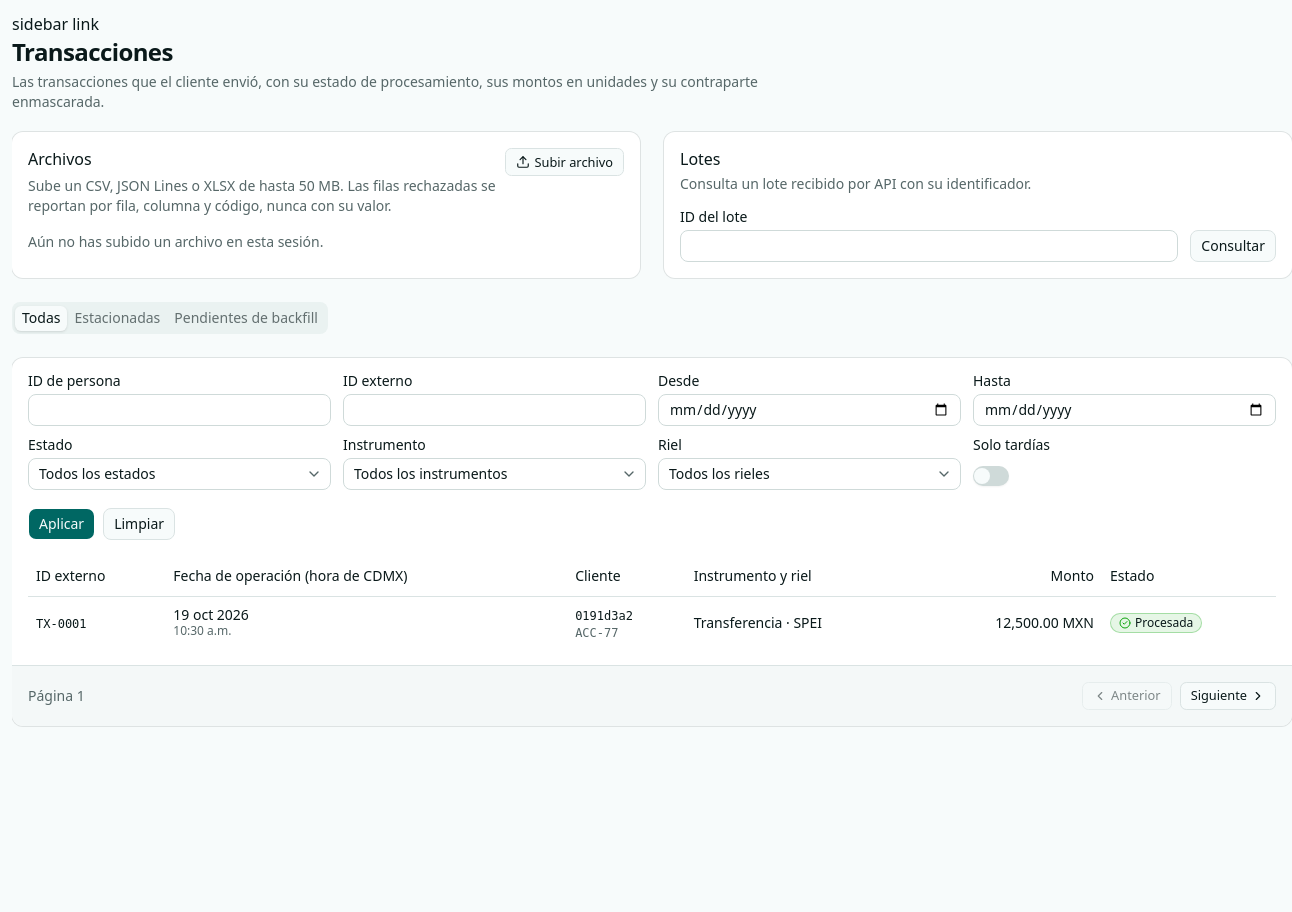
TransactionsPage › moves through pages with the cursor
The width and height of the screenshot is (1292, 912).
Step 1. Click the button "Siguiente" → click(1228, 696), box 1180,682 -> 1276,710
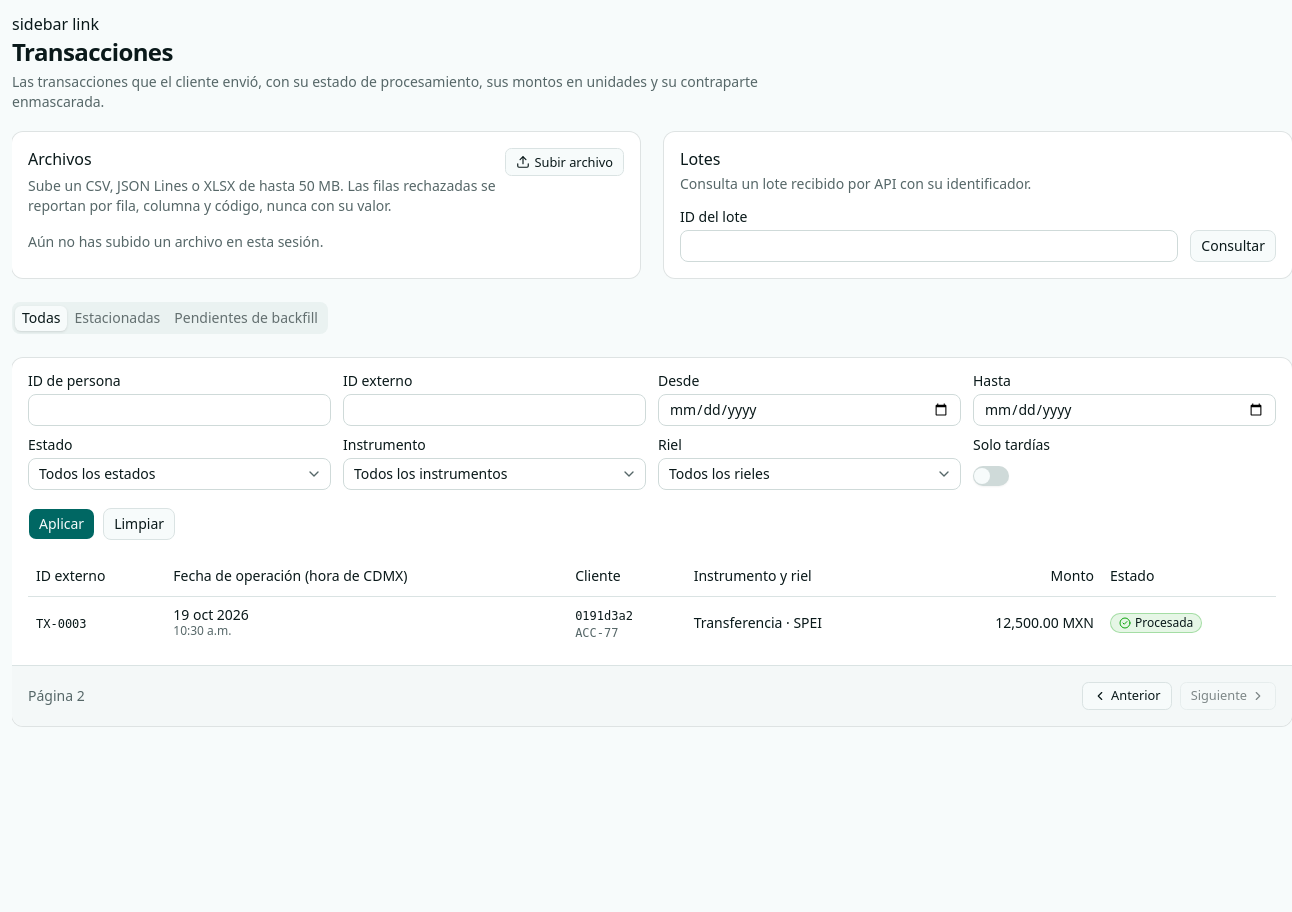
Expected: the link "TX-0003" is shown, 36,616 -> 87,630
